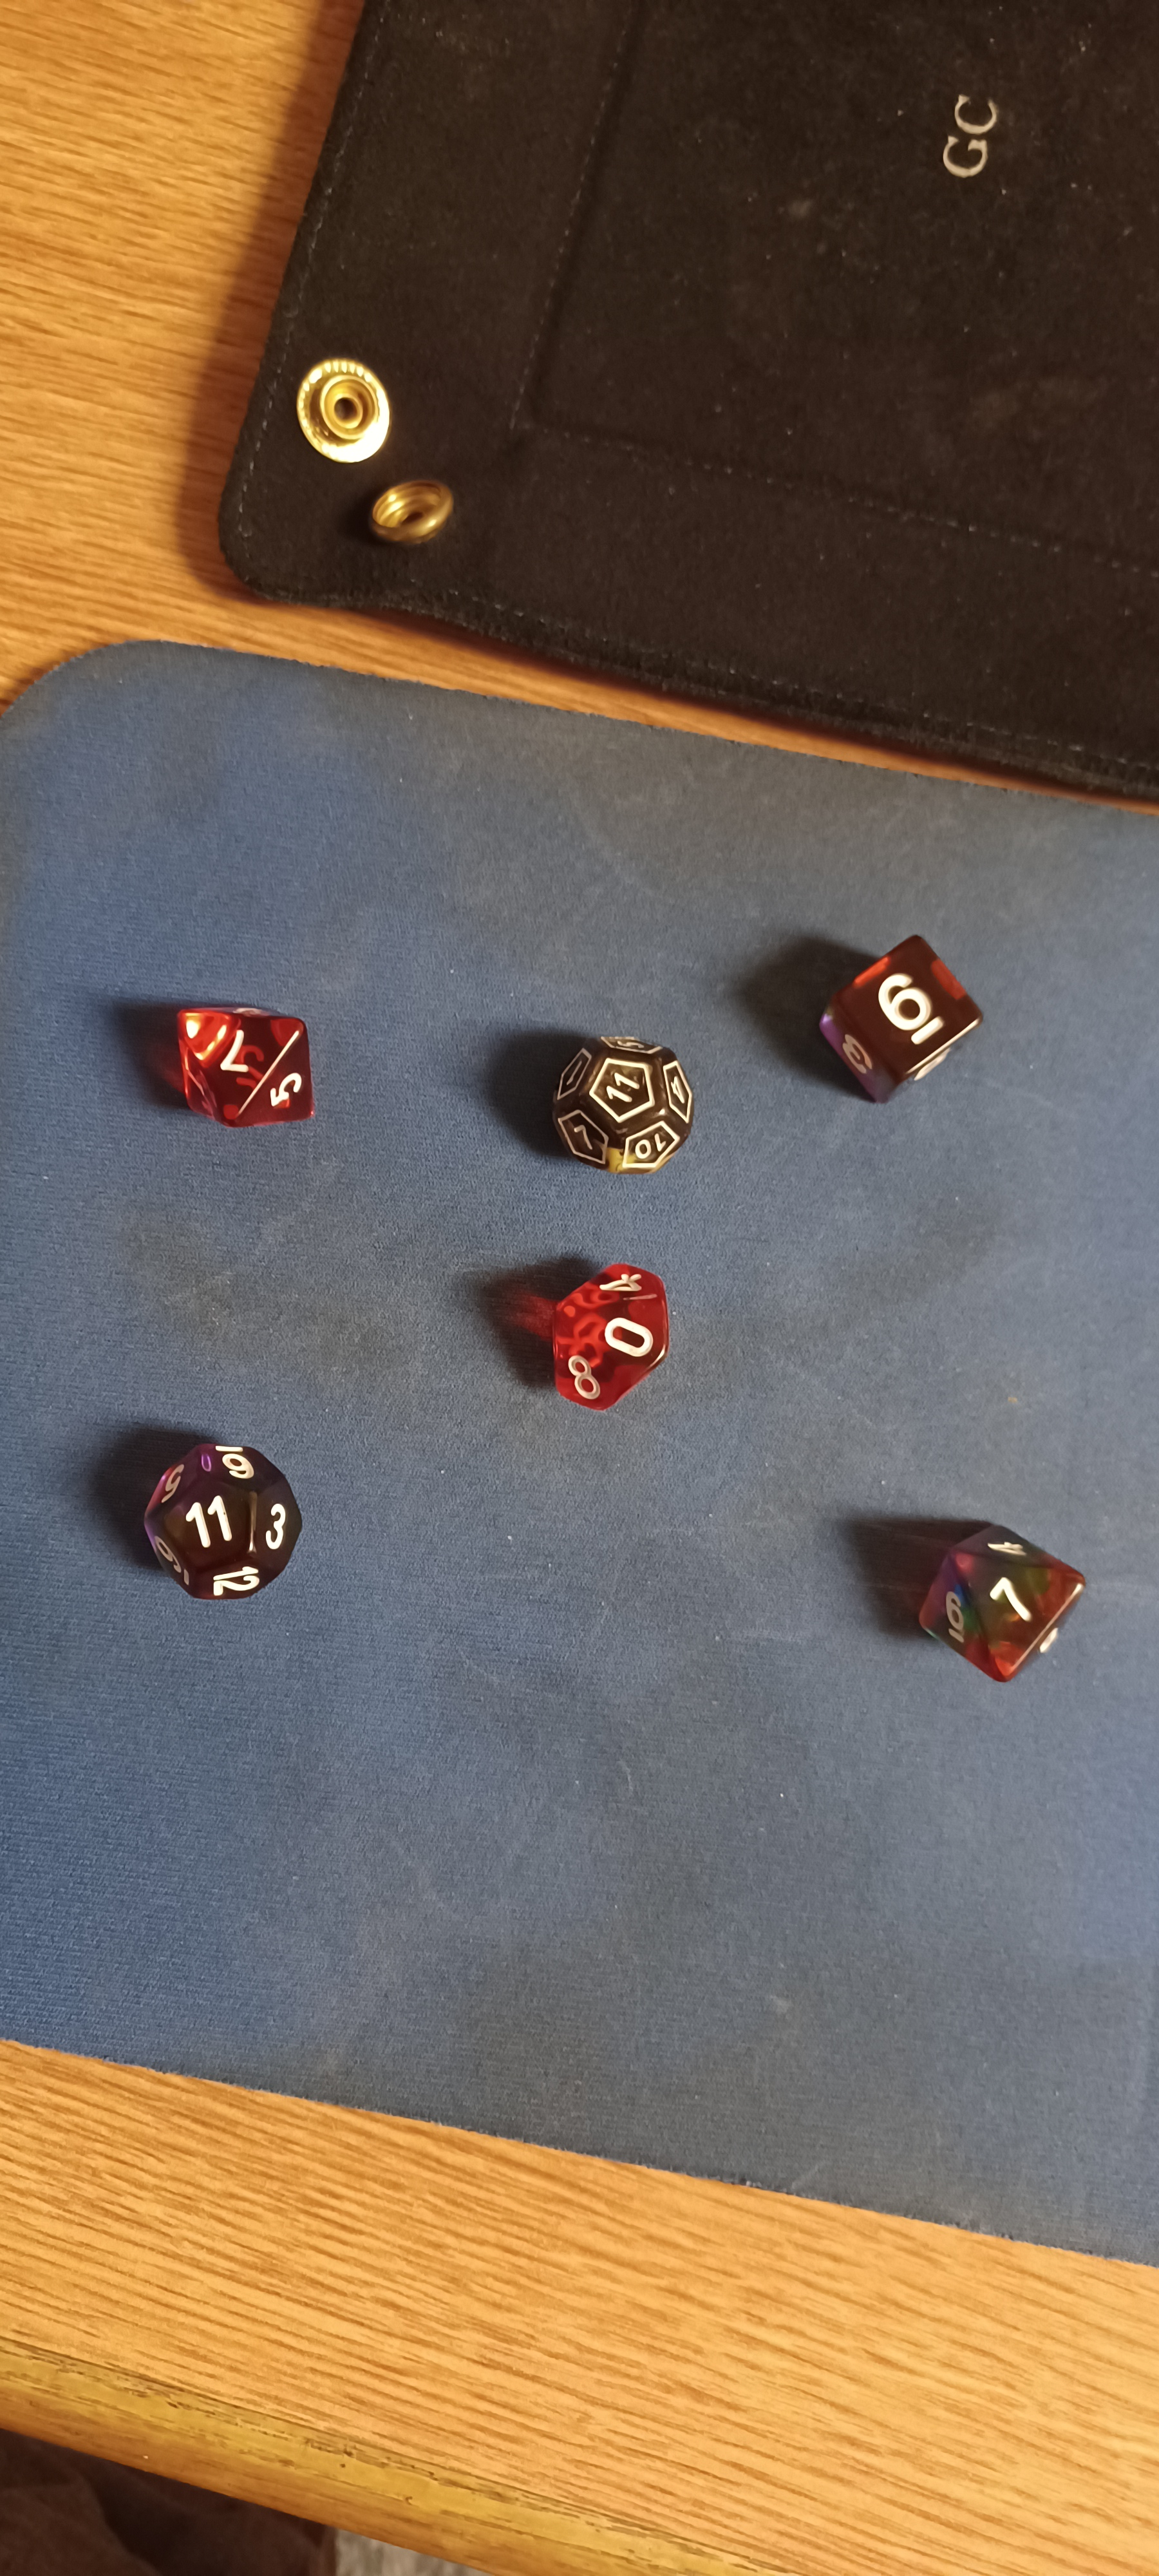eleven: (90, 1388, 340, 1646), (519, 1005, 722, 1201)
seven: (891, 1492, 1110, 1702), (126, 982, 351, 1175)
six: (788, 904, 998, 1117)
zero: (478, 1244, 740, 1431)
